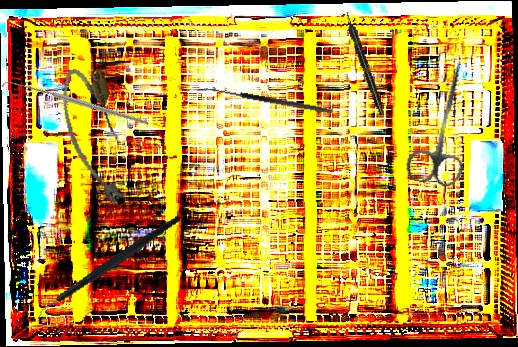Cannula: (54, 62, 135, 214)
Chopper: (21, 212, 197, 327)
Handpiece: (342, 10, 387, 117)
Hook Surgical: (1, 29, 149, 180), (200, 85, 334, 121)
Iris Scissors: (403, 56, 485, 191)
